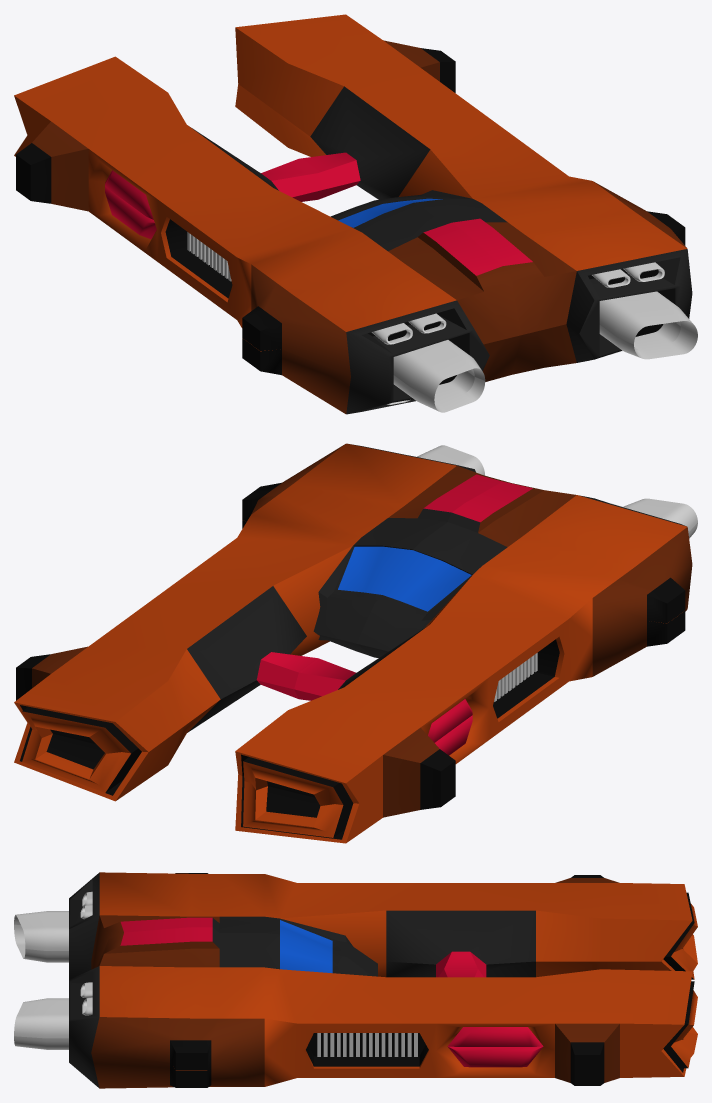
Rendered from gotek.obj.
3 views of the same model, one above another, from view 1: azimuth 30°, elevation 25°; view 2: azimuth 150°, elevation 25°; view 3: azimuth 270°, elevation 25° (orthographic). The views are drawn at different scales.
Visible parts, largest first — view 1: Cylinder.001; view 2: Cylinder.001; view 3: Cylinder.001.
Boxes of the visible parts, bbox=[...] form: Cylinder.001: bbox=[14, 14, 697, 414]; Cylinder.001: bbox=[14, 443, 697, 843]; Cylinder.001: bbox=[14, 872, 697, 1088].
Size of the model in its own units: 6.18 by 1.7 by 9.91.
